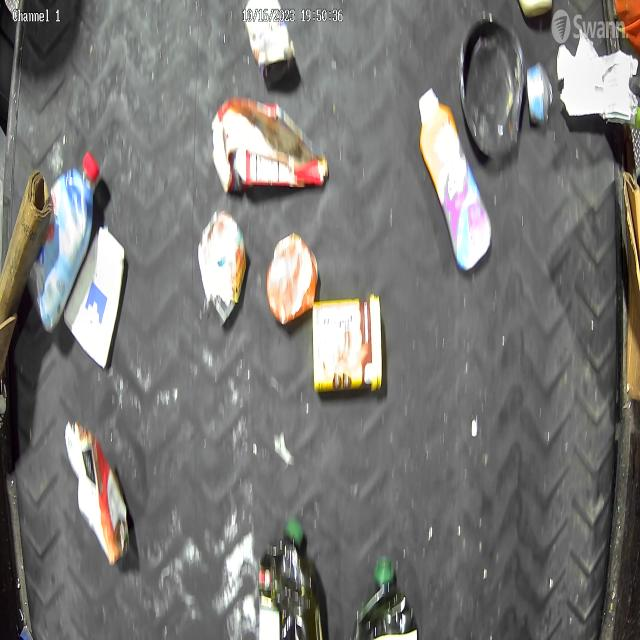can: (526, 58, 560, 145)
non_white_jug: (25, 144, 101, 332), (311, 292, 383, 392)
